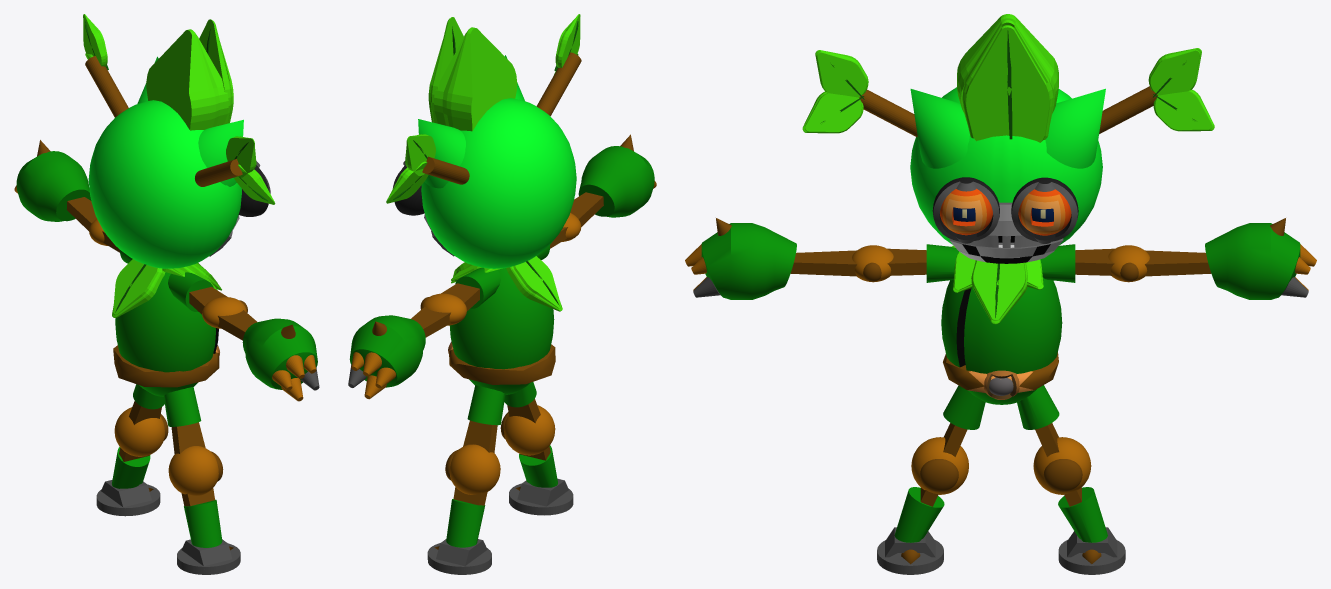
File: EcoChracter.fbx
3 renders of one model, left to right at view 1: azimuth 30°, elevation 25°; view 2: azimuth 150°, elevation 25°; view 3: azimuth 270°, elevation 25°, orthographic. The views are drawn at different scales.
Parts seen in each view (by area): view 1: Sphere.011, Sphere.004, Cylinder.034, Cylinder.018, Cylinder.007, Sphere, Icosphere, Cylinder.038, Sphere.003, Cylinder.001, Cone.005, Cylinder.002 (+20 smaller); view 2: Sphere.011, Sphere.004, Cylinder.034, Cylinder.007, Cylinder.018, Sphere.003, Icosphere, Sphere, Cylinder.038, Cone.004, Cylinder.004, Cylinder.033 (+20 smaller); view 3: Sphere.011, Sphere.004, Cylinder.033, Cylinder.007, Cylinder.018, Sphere.013, Sphere.012, Cone.004, Cone.005, Cylinder.023, Cylinder.034, Cylinder.046 (+26 smaller).
Part boxes in pixels (left/top/right/bottom): Sphere.011: left=88, top=100, right=241, bottom=268; Sphere.004: left=115, top=272, right=218, bottom=396; Cylinder.034: left=146, top=29, right=228, bottom=130; Cylinder.018: left=16, top=151, right=91, bottom=221; Cylinder.007: left=242, top=318, right=317, bottom=389; Sphere: left=168, top=446, right=218, bottom=495; Icosphere: left=113, top=345, right=219, bottom=387; Cylinder.038: left=112, top=259, right=165, bottom=317; Sphere.003: left=114, top=407, right=164, bottom=456; Cylinder.001: left=184, top=499, right=222, bottom=547; Cone.005: left=198, top=119, right=243, bottom=186; Cylinder.002: left=163, top=387, right=201, bottom=426; Sphere.011: left=421, top=98, right=576, bottom=268; Sphere.004: left=449, top=268, right=554, bottom=394; Cylinder.034: left=434, top=27, right=517, bottom=131; Cylinder.007: left=578, top=146, right=654, bottom=217; Cylinder.018: left=349, top=315, right=425, bottom=387; Sphere.003: left=449, top=444, right=500, bottom=494; Icosphere: left=449, top=344, right=555, bottom=384; Sphere: left=504, top=405, right=555, bottom=455; Cylinder.038: left=506, top=256, right=562, bottom=311; Cone.004: left=418, top=119, right=465, bottom=188; Cylinder.004: left=446, top=499, right=485, bottom=547; Cylinder.033: left=428, top=17, right=463, bottom=123; Sphere.011: left=910, top=87, right=1102, bottom=263; Sphere.004: left=941, top=277, right=1062, bottom=404; Cylinder.033: left=962, top=20, right=1053, bottom=142; Cylinder.007: left=701, top=223, right=796, bottom=299; Cylinder.018: left=1205, top=223, right=1300, bottom=299; Sphere.013: left=1011, top=177, right=1078, bottom=243; Sphere.012: left=932, top=177, right=999, bottom=243; Cone.004: left=1045, top=88, right=1105, bottom=168; Cone.005: left=910, top=89, right=969, bottom=168; Cylinder.023: left=971, top=260, right=1027, bottom=324; Cylinder.034: left=957, top=14, right=1058, bottom=123; Cylinder.046: left=1153, top=89, right=1214, bottom=131.
Bounding box in the file's own units: 389 × 1293 × 1311.
